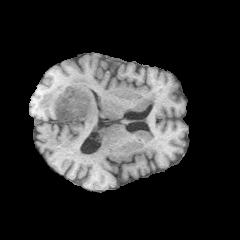glioma: (39, 77, 96, 122)
